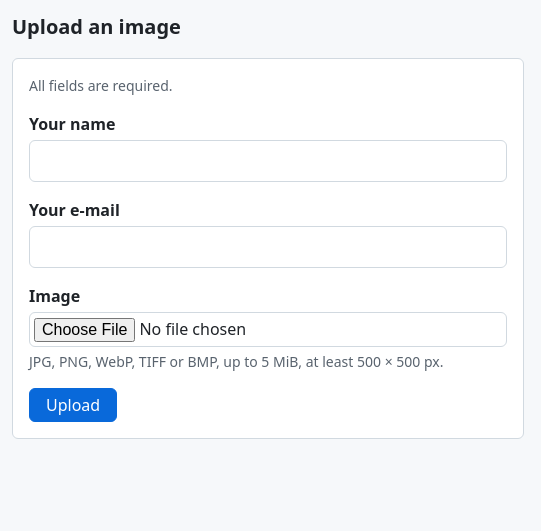
UploadForm › reports every missing field without sending anything
The width and height of the screenshot is (541, 531).
Click the button "Upload".
click(73, 405)  # box [29,388,117,422]
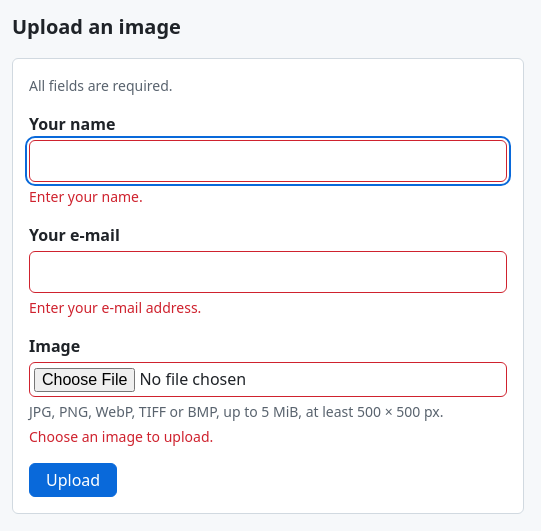
Expected: the text "Enter your name." is shown, [29,187,143,206]
Expected: the text "Enter your e-mail address." is shown, [29,298,201,317]
Expected: the text "Choose an image to upload." is shown, [29,427,213,446]
